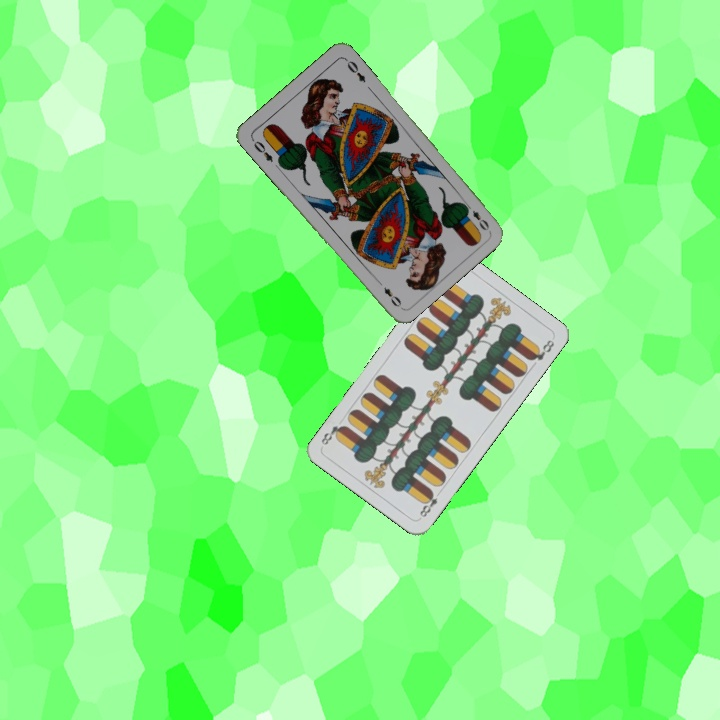E8: (415, 487, 444, 521)
EO: (461, 199, 492, 233), (248, 135, 276, 165)
